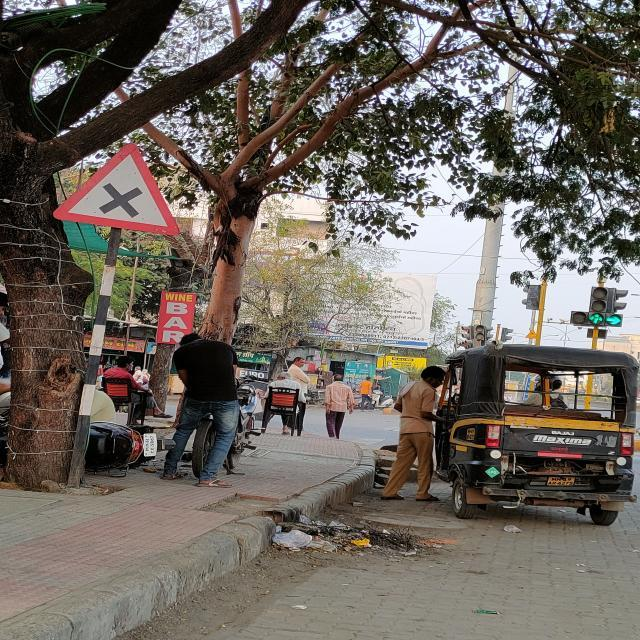cross road: (42, 136, 189, 242)
